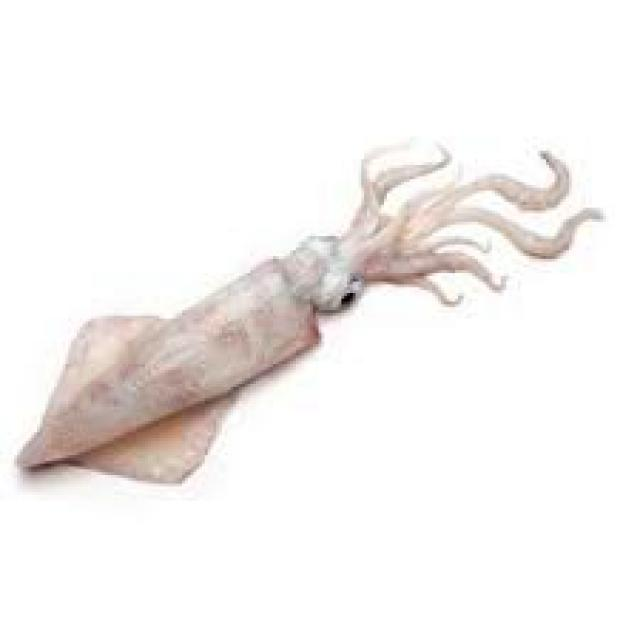squid: (17, 145, 597, 481)
